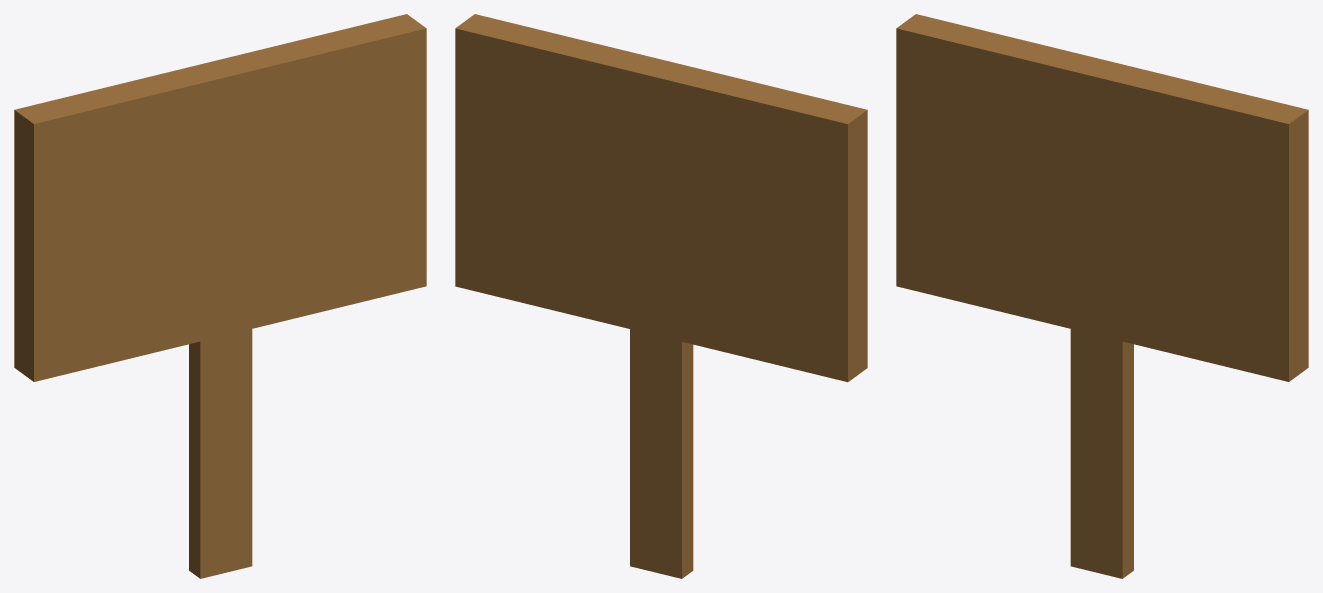
The model's file is Sign.fbx.
3 views of the same model, side by side, from view 1: azimuth 30°, elevation 25°; view 2: azimuth 150°, elevation 25°; view 3: azimuth 330°, elevation 25° (orthographic).
Parts seen in each view (by area): view 1: Cube.001; view 2: Cube.001; view 3: Cube.001.
Part boxes in pixels (x1,y1,x2,y2): Cube.001: (14,14,426,578); Cube.001: (455,14,867,578); Cube.001: (896,14,1308,578).
Size of the model in its own units: 1411 by 1714 by 122.
